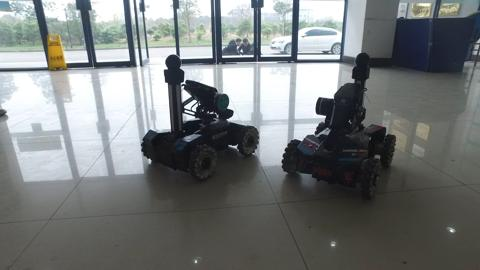car: (269, 19, 347, 61)
chariot: (276, 45, 411, 201), (135, 53, 264, 184)
